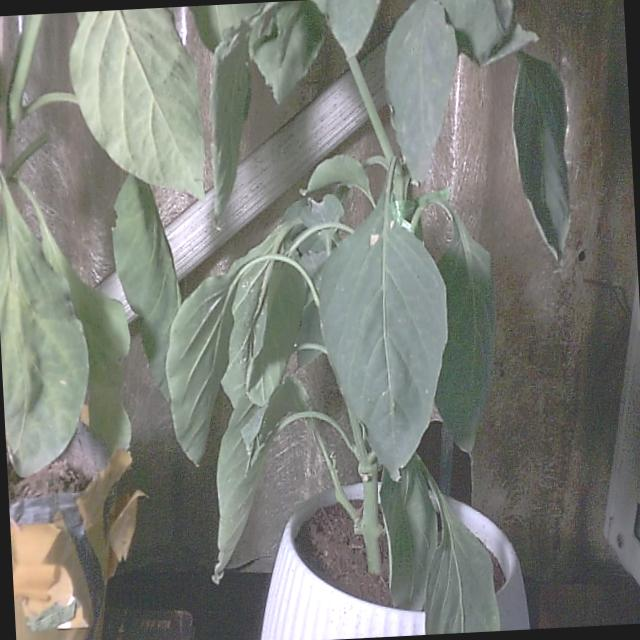Leaf: (313, 207, 458, 480), (69, 8, 203, 197), (435, 205, 494, 452), (384, 0, 456, 183), (512, 54, 569, 258)
